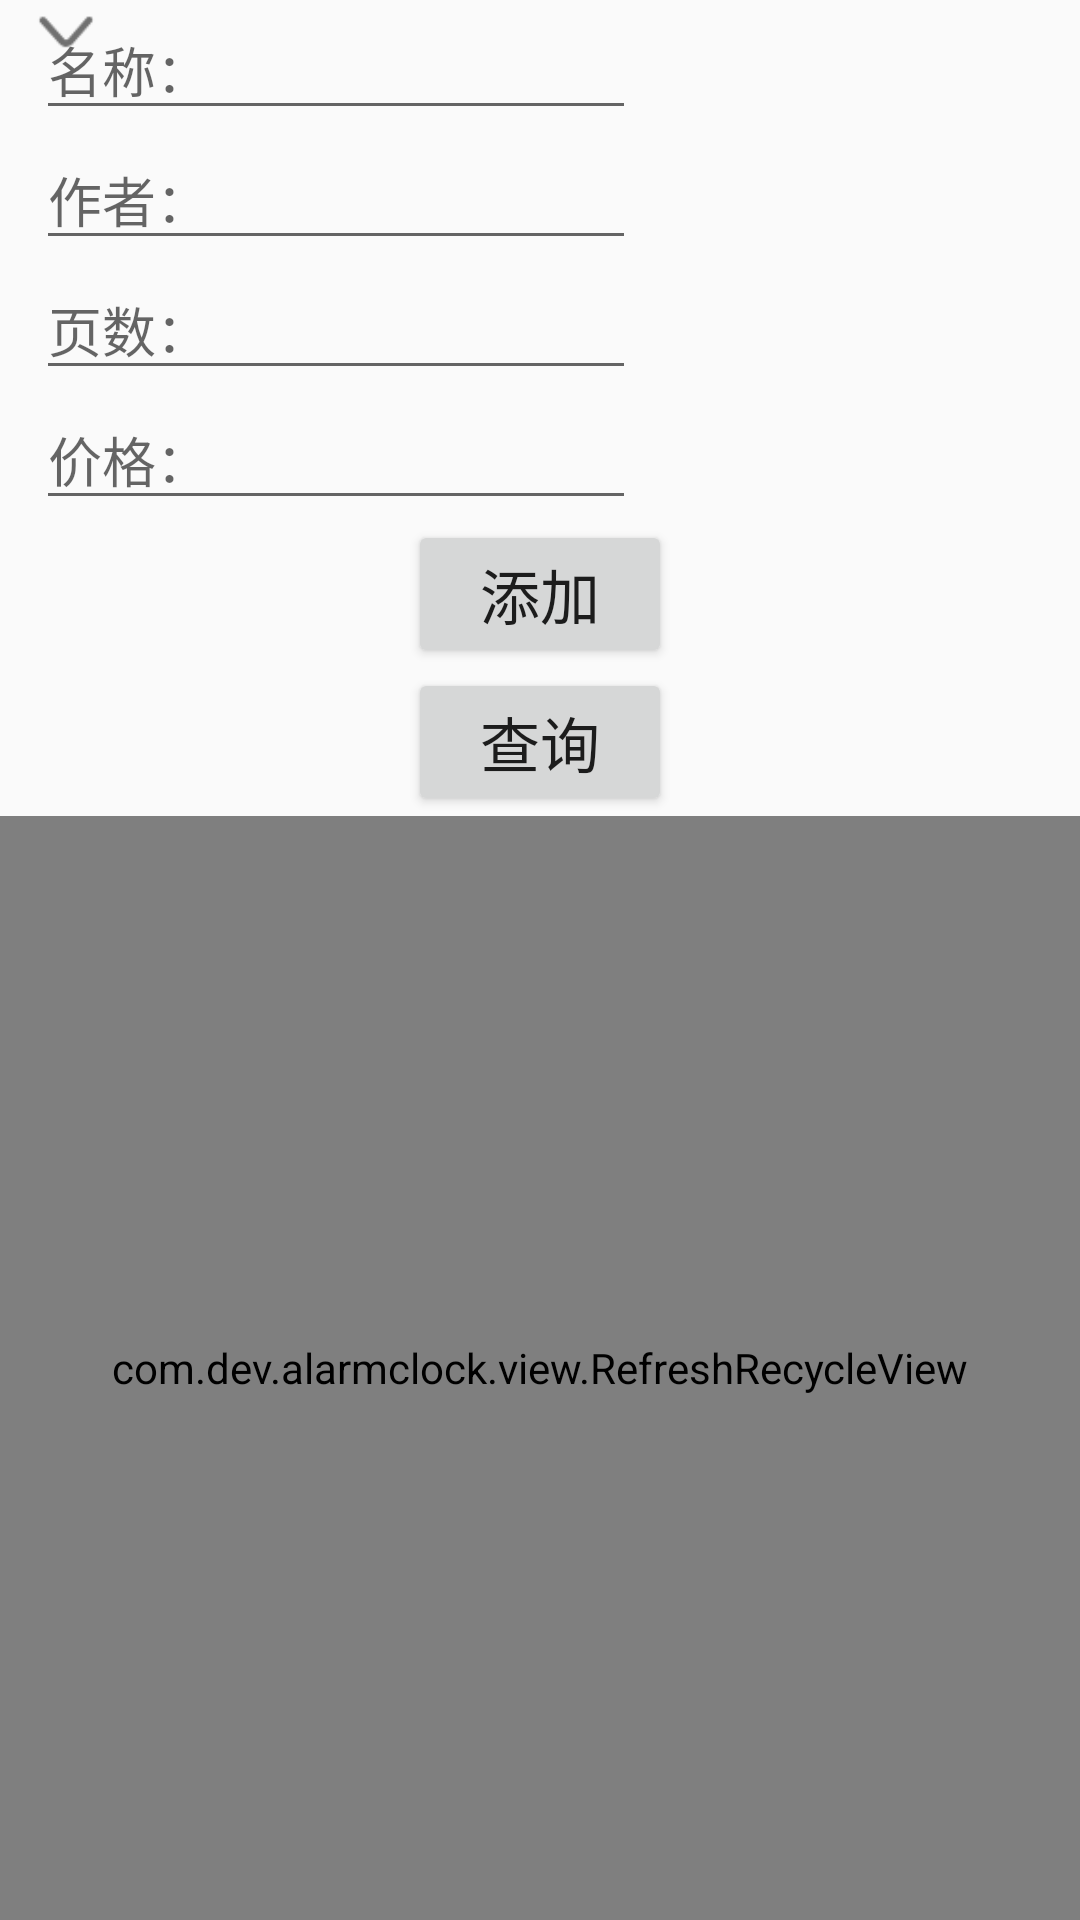

Screen size 1080x1920. Icon name, then its box in pixels as (x1, y1, x2, y2):
down: (39, 16, 94, 60)
